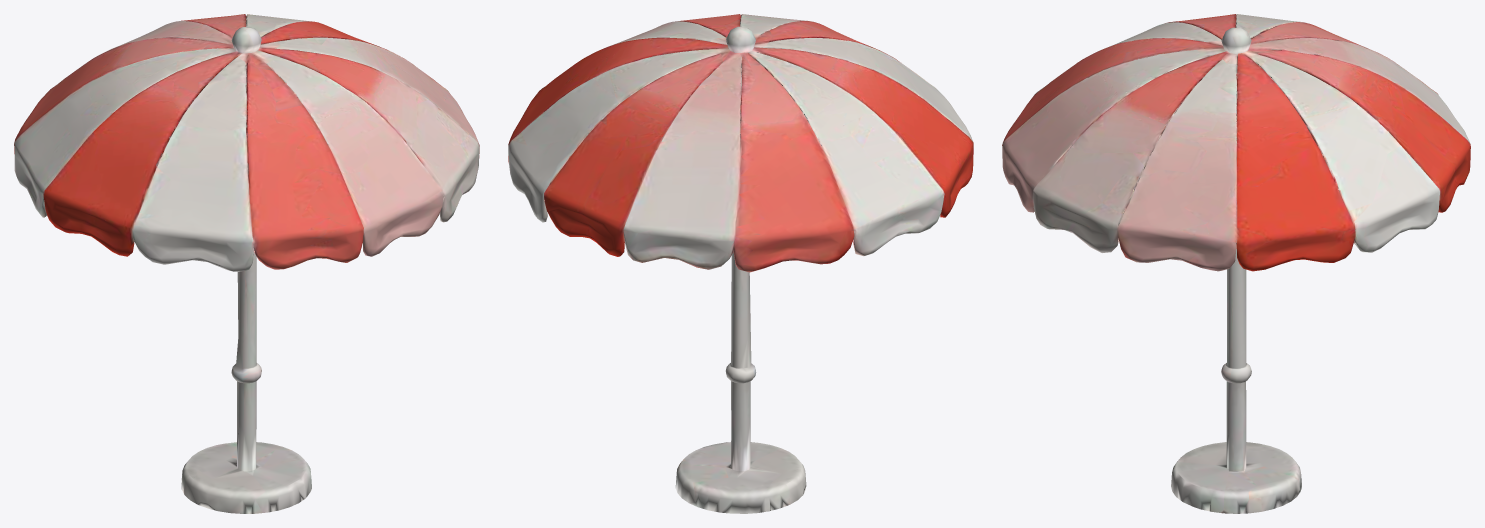
File: parasol.glb
3 renders of one model, left to right at view 1: azimuth 30°, elevation 25°; view 2: azimuth 150°, elevation 25°; view 3: azimuth 270°, elevation 25°, orthographic.
Visible parts, largest first — view 1: tripo_node_360223cd-480a-45db-843a-9062a7ab04e6; view 2: tripo_node_360223cd-480a-45db-843a-9062a7ab04e6; view 3: tripo_node_360223cd-480a-45db-843a-9062a7ab04e6.
Boxes of the visible parts, x1=… form: tripo_node_360223cd-480a-45db-843a-9062a7ab04e6: x1=14, y1=14, x2=479, y2=513; tripo_node_360223cd-480a-45db-843a-9062a7ab04e6: x1=508, y1=14, x2=973, y2=513; tripo_node_360223cd-480a-45db-843a-9062a7ab04e6: x1=1002, y1=14, x2=1470, y2=513.
Bounding box in the file's own units: 0.9297 × 1 × 0.9285.
Materials: 1 (1 with a texture image).
